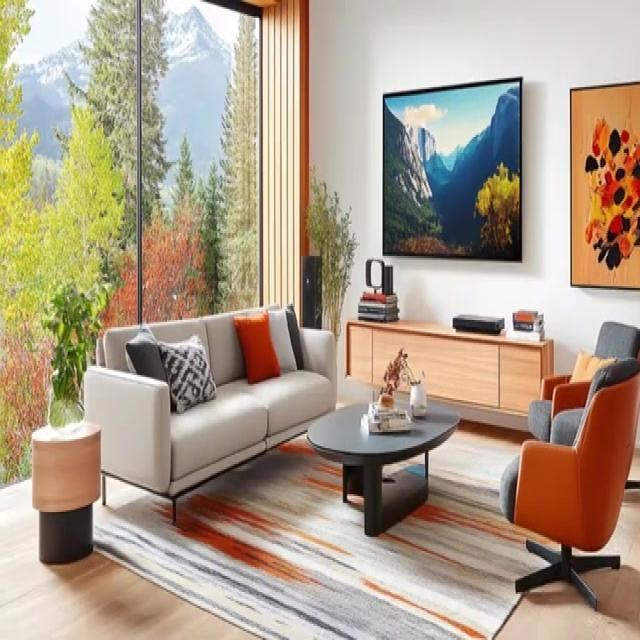obstacle: (82, 302, 337, 523), (499, 356, 639, 610), (345, 318, 553, 432), (306, 398, 460, 535), (31, 418, 101, 564)
